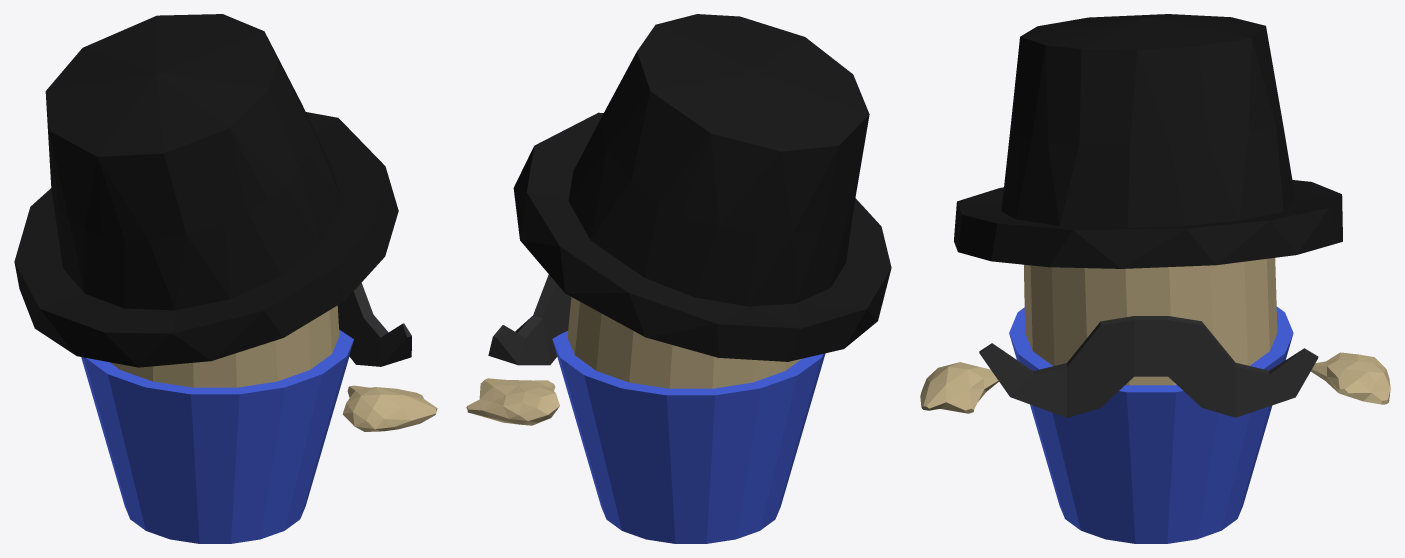
File: FBI Agent.fbx
The picture shows the model from 3 angles, left to right: view 1: azimuth 30°, elevation 25°; view 2: azimuth 150°, elevation 25°; view 3: azimuth 270°, elevation 25°; orthographic projection. The views are drawn at different scales.
Visible parts, largest first — view 1: FBI Agent; view 2: FBI Agent; view 3: FBI Agent.
Part boxes in pixels (x1=…): FBI Agent: x1=14, y1=14, x2=437, y2=543; FBI Agent: x1=466, y1=14, x2=891, y2=543; FBI Agent: x1=920, y1=14, x2=1390, y2=543.
Bounding box in the file's own units: 258 × 351 × 314.
